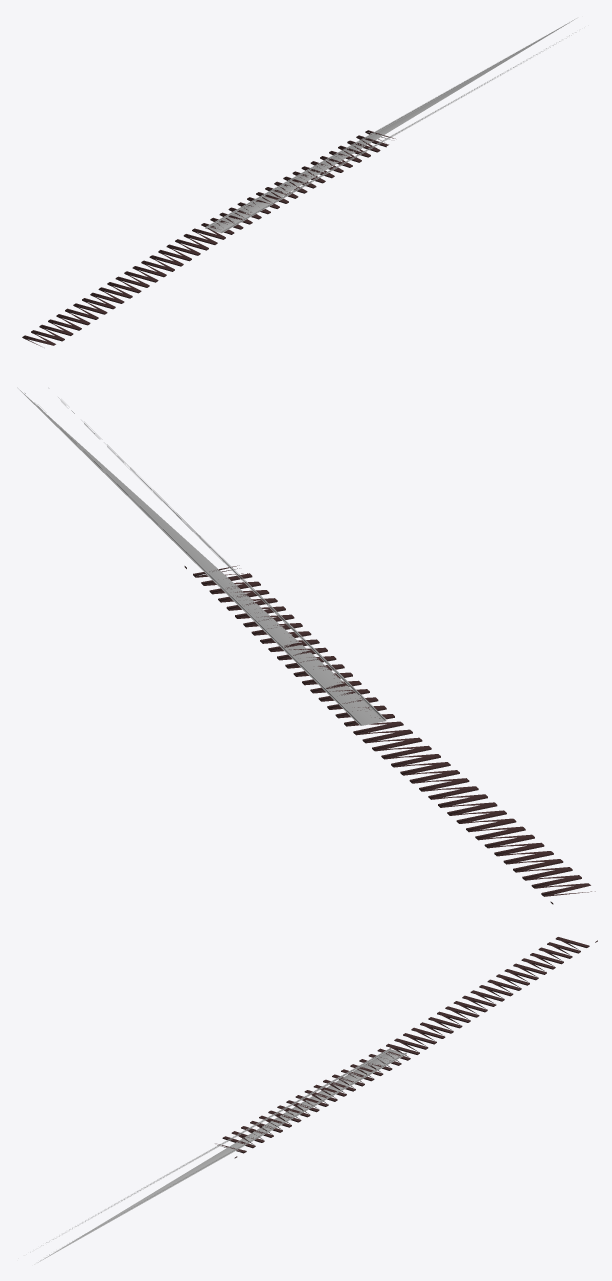
The picture shows the model from 3 angles, top to bottom: view 1: azimuth 90°, elevation 25°; view 2: azimuth 150°, elevation 25°; view 3: azimuth 270°, elevation 25°; orthographic projection. The views are drawn at different scales.
Bounding box in the file's own units: 44.63 × 0.1478 × 32.99.
